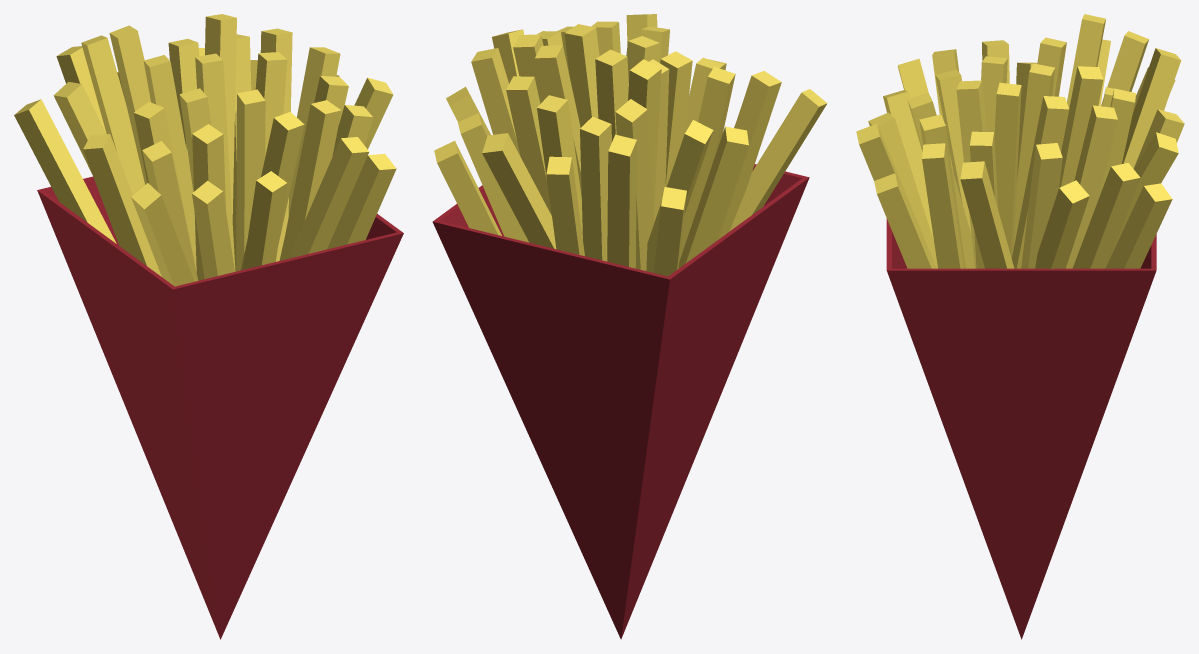
The model's file is Cono De Papas.fbx.
3 renders of one model, left to right at view 1: azimuth 30°, elevation 25°; view 2: azimuth 150°, elevation 25°; view 3: azimuth 270°, elevation 25°, orthographic. The views are drawn at different scales.
Parts seen in each view (by area): view 1: Cono De Papas; view 2: Cono De Papas; view 3: Cono De Papas.
Boxes of the visible parts, bbox=[...] form: Cono De Papas: bbox=[14, 14, 403, 639]; Cono De Papas: bbox=[432, 14, 827, 639]; Cono De Papas: bbox=[856, 14, 1184, 639].
Bounding box in the file's own units: 10 × 20 × 10.
